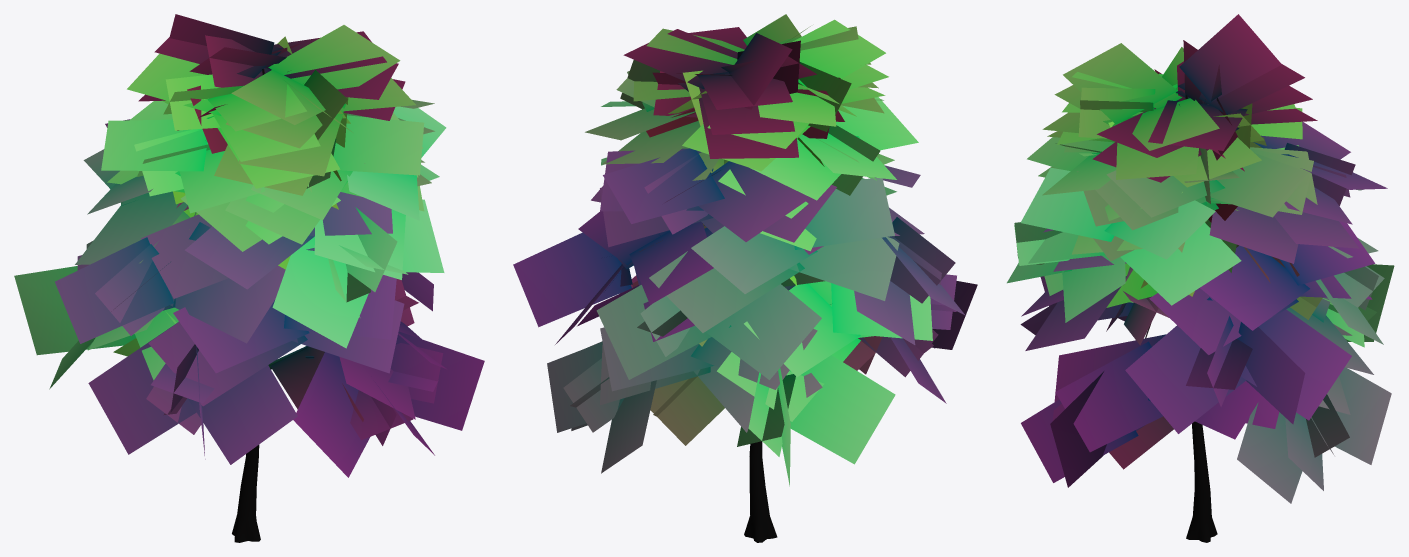
File: Tree_1_3.fbx
The picture shows the model from 3 angles, left to right: view 1: azimuth 30°, elevation 25°; view 2: azimuth 150°, elevation 25°; view 3: azimuth 270°, elevation 25°; orthographic projection. The views are drawn at different scales.
Parts seen in each view (by area): view 1: _3; view 2: _3; view 3: _3.
Boxes of the visible parts, x1,y1,x2,y2 form: _3: (14,14,484,542); _3: (513,14,977,542); _3: (1007,14,1394,542).
Bounding box in the file's own units: 1220 × 1578 × 1114.
